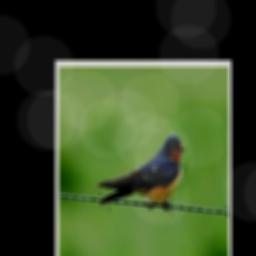Swallow: (97, 134, 186, 205)
